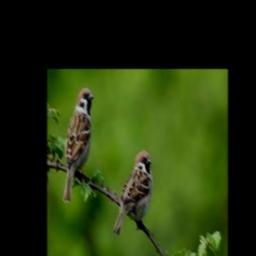Sparrow: (63, 87, 93, 203), (114, 149, 152, 235)
